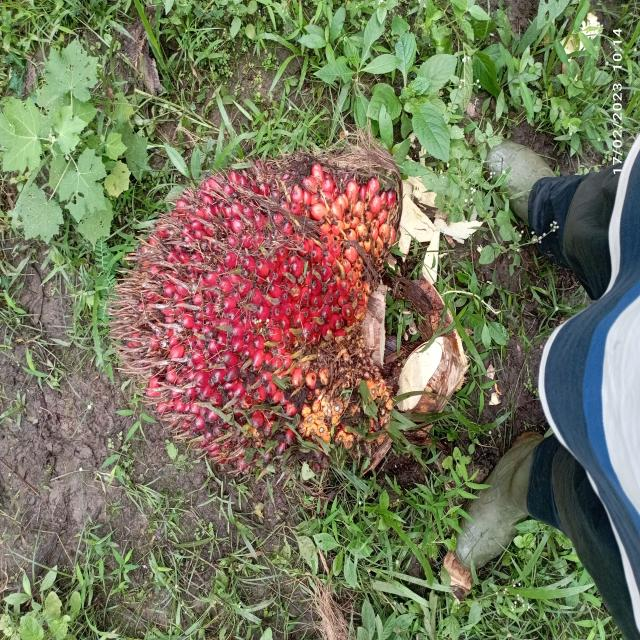fraksi 3: (68, 120, 492, 490)
